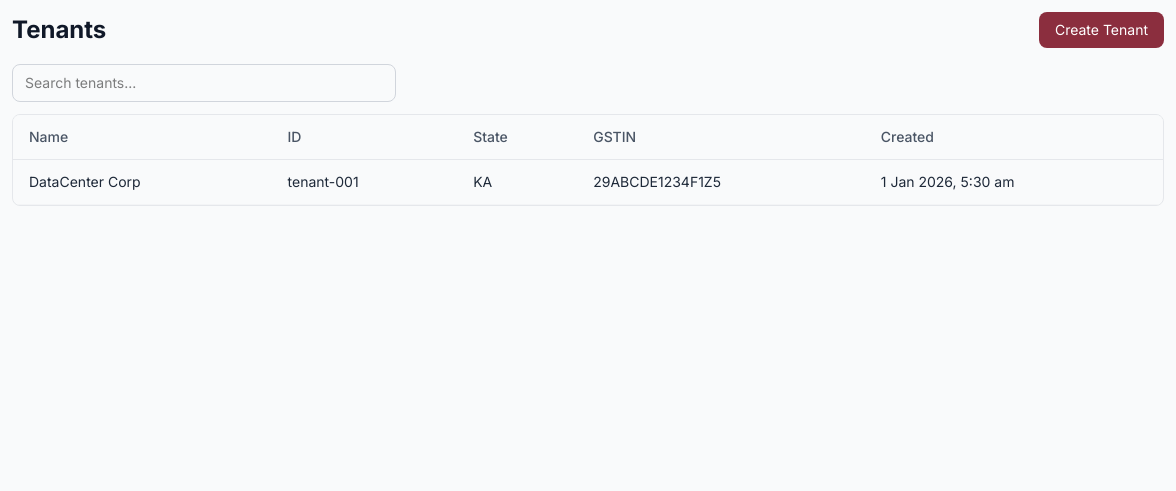
Test case: PlatformTenants page › hides create form when Cancel is clicked
Click the button "Create Tenant": (1101, 30) [1039,12,1164,48]
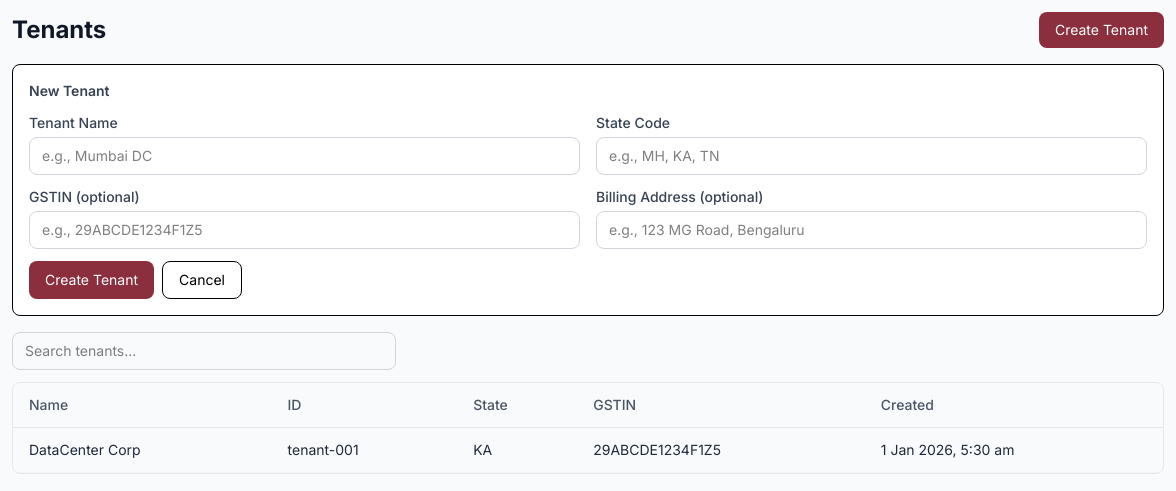
Check: the heading "New Tenant" is shown, box [29,82,110,99]
Click the button "Cancel": (202, 280) [162,261,242,299]
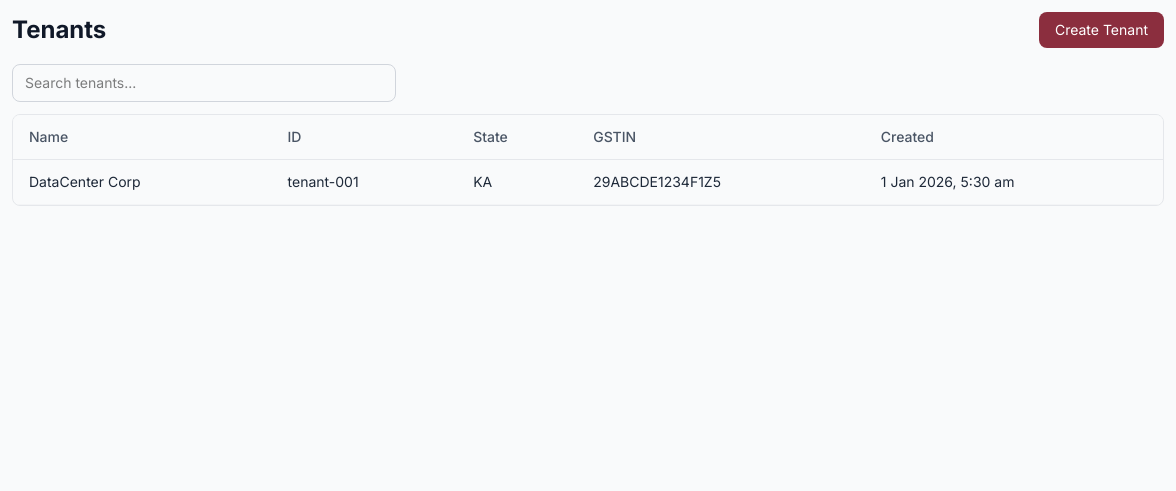
Check: the heading "New Tenant" is gone
